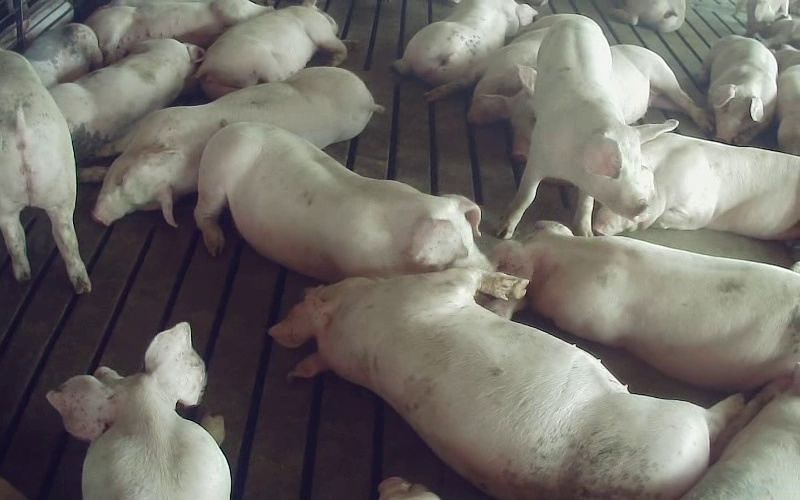pig: (271, 268, 743, 496), (493, 222, 799, 389), (195, 123, 489, 281), (498, 17, 677, 237), (47, 323, 229, 499), (592, 133, 799, 238), (50, 39, 204, 159), (196, 5, 346, 98), (424, 14, 573, 101), (393, 0, 536, 85), (85, 0, 271, 63), (700, 35, 777, 144)
